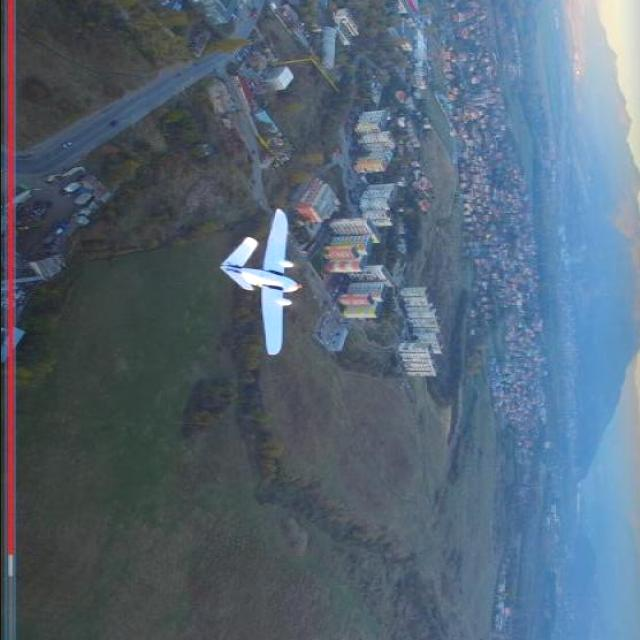plane: (219, 206, 304, 356)
